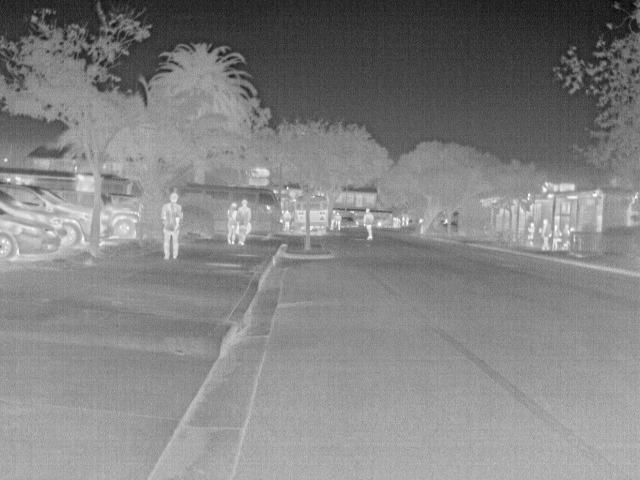car: (1, 181, 93, 250), (1, 206, 61, 264), (103, 193, 140, 240), (341, 214, 359, 228)
person: (164, 194, 186, 260), (236, 198, 253, 244), (225, 202, 239, 244), (360, 206, 374, 242), (539, 215, 552, 252), (281, 208, 293, 234), (332, 210, 344, 230), (526, 220, 538, 238), (560, 222, 574, 237), (550, 225, 560, 236)
